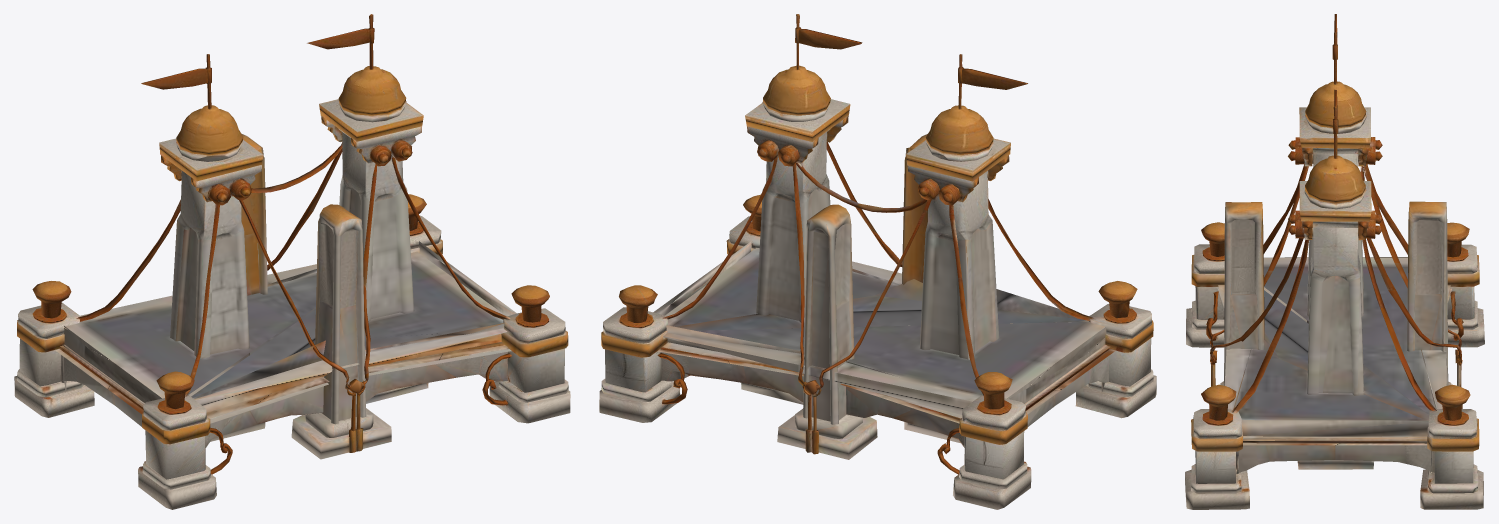
File: lift-bridge.glb
The picture shows the model from 3 angles, left to right: view 1: azimuth 30°, elevation 25°; view 2: azimuth 150°, elevation 25°; view 3: azimuth 270°, elevation 25°; orthographic projection. The views are drawn at different scales.
Visible parts, largest first — view 1: lift-bridge; view 2: lift-bridge; view 3: lift-bridge.
Boxes of the visible parts, x1=… form: lift-bridge: x1=14, y1=14, x2=570, y2=509; lift-bridge: x1=599, y1=14, x2=1156, y2=509; lift-bridge: x1=1185, y1=14, x2=1484, y2=509.
Size of the model in its own units: 6 by 5.25 by 4.11.
Materials: 1 (1 with a texture image).
